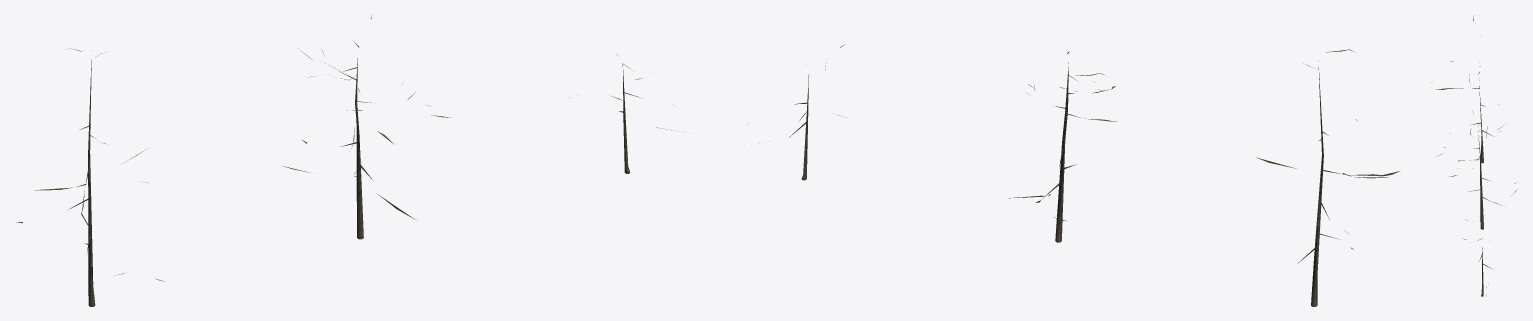
Rendered from fir_sapling.glb.
The picture shows the model from 3 angles, left to right: view 1: azimuth 30°, elevation 25°; view 2: azimuth 150°, elevation 25°; view 3: azimuth 270°, elevation 25°; orthographic projection. The views are drawn at different scales.
Parts seen in each view (by area): view 1: fir_sapling_a; view 2: fir_sapling_a; view 3: fir_sapling_a.
Boxes of the visible parts, box(x1,y1,x2,y2) form: fir_sapling_a: box(16, 15, 677, 306); fir_sapling_a: box(747, 44, 1399, 306); fir_sapling_a: box(1435, 15, 1516, 296).
Size of the model in its own units: 2.56 by 0.9663 by 0.559.
Materials: 2 (2 with a texture image).
